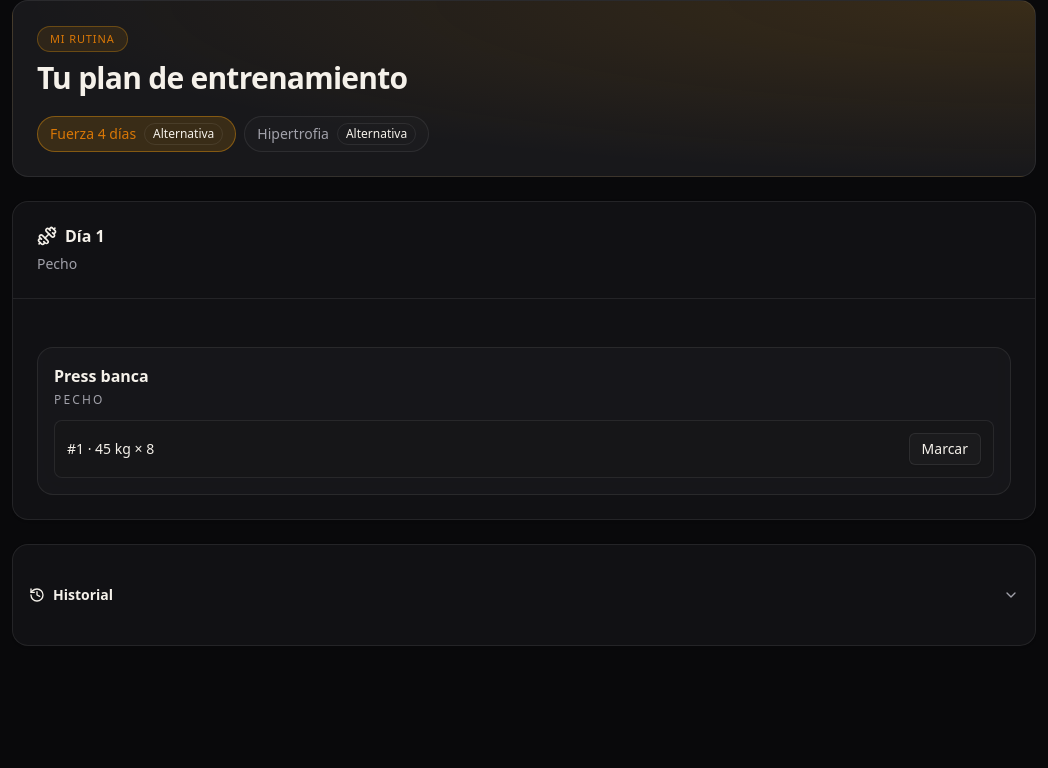
Test case: vista Mi rutina › deja elegir y marcar sobre una copia Alternativa aunque no haya ninguna Activa
Expected: the text "Press banca" is shown, [54, 365, 149, 387]
Expected: the text "Alternativa" is shown 2 times, [144, 123, 223, 145]; [337, 123, 416, 145]
What coordinates should you click on to do the following:
click the button "Marcar"
I would click on:
 (945, 449)
Its box is [909, 433, 981, 465].
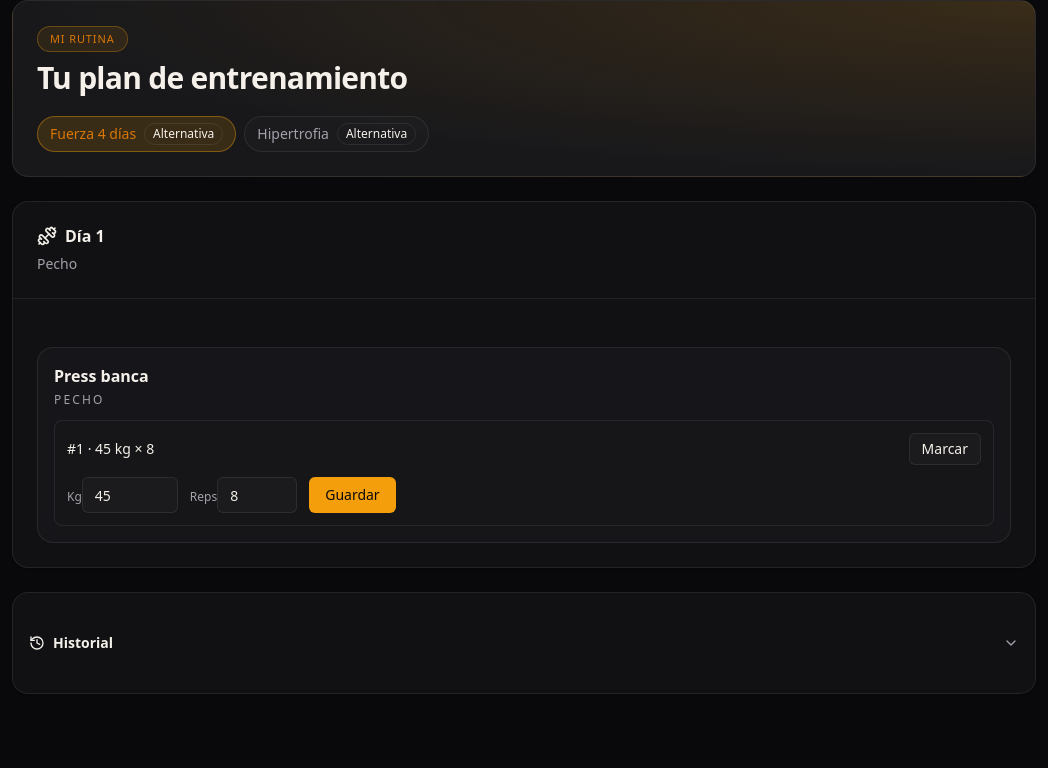
What coordinates should you click on to do the following:
click the button "Guardar"
I would click on:
 (352, 495)
Its box is [309, 477, 396, 513].
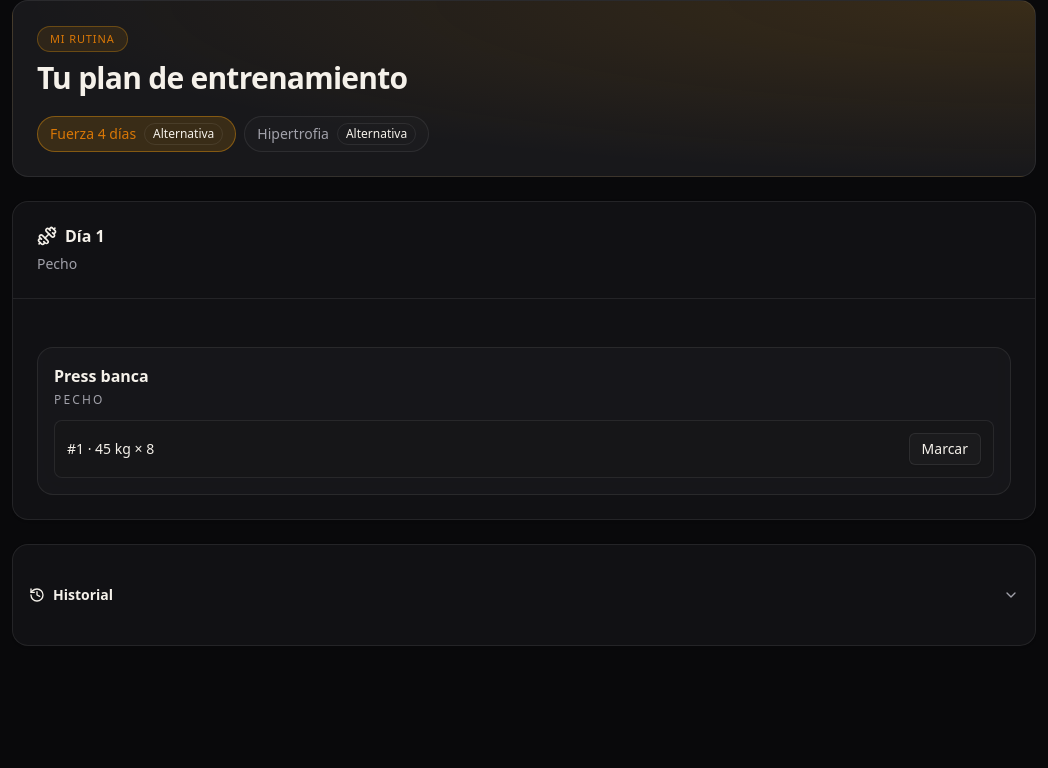
// Cambiar a la otra copia Alternativa también deja elegir y marcar.
What coordinates should you click on to do the following:
click the button "Hipertrofia Alternativa"
I would click on:
 (337, 134)
Its box is [244, 116, 429, 152].
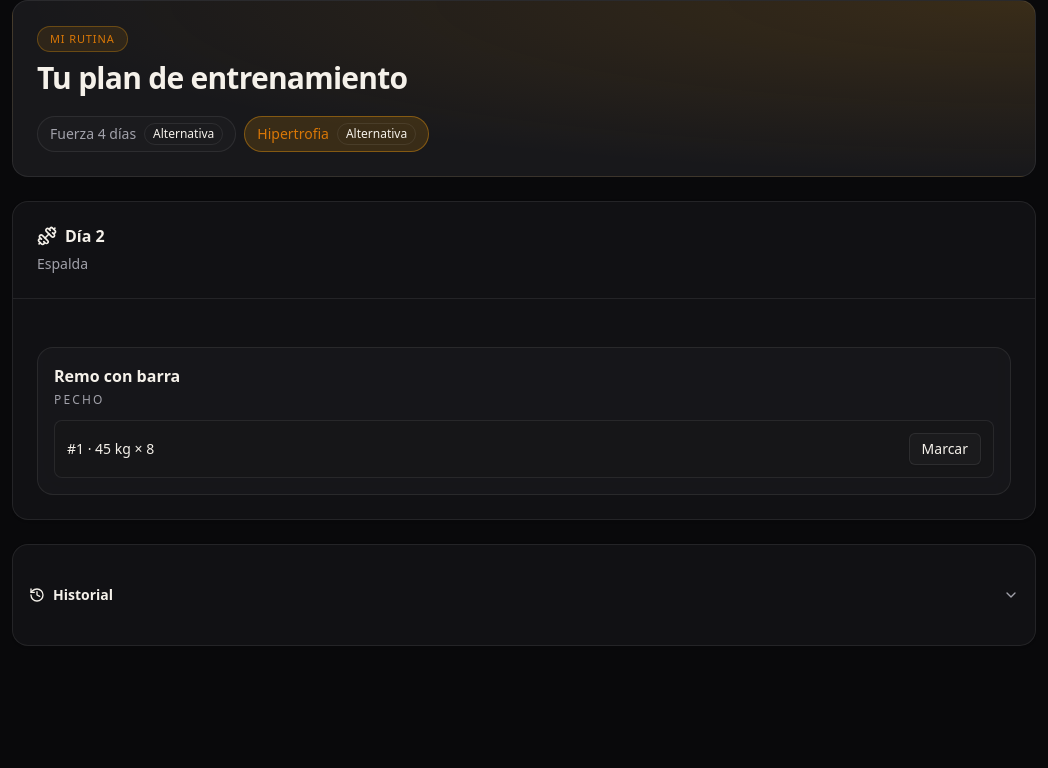
Expected: the button "Marcar" is enabled, [909, 433, 981, 465]
Now the text "Remo con barra" is shown, box [54, 365, 180, 387]
